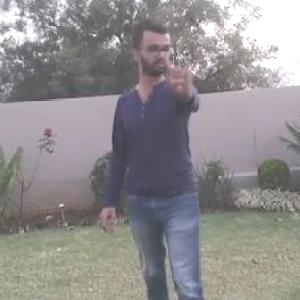takeoff-hand: (161, 49, 198, 102)
